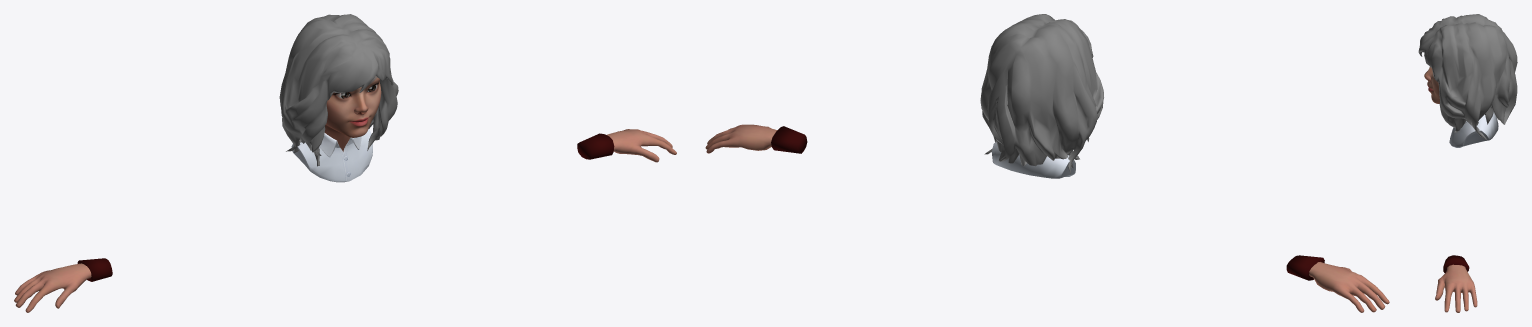
Rendered from jun72.obj.
3 renders of one model, left to right at view 1: azimuth 30°, elevation 25°; view 2: azimuth 150°, elevation 25°; view 3: azimuth 270°, elevation 25°, orthographic. The views are drawn at different scales.
Visible parts, largest first — view 1: Wolf3D_Avatar; view 2: Wolf3D_Avatar; view 3: Wolf3D_Avatar.
Boxes of the visible parts, <box> form: Wolf3D_Avatar: <box>14,14,676,312</box>; Wolf3D_Avatar: <box>705,14,1389,312</box>; Wolf3D_Avatar: <box>1418,14,1517,312</box>.
Bounding box in the file's own units: 1.65 × 0.486 × 0.2652.
